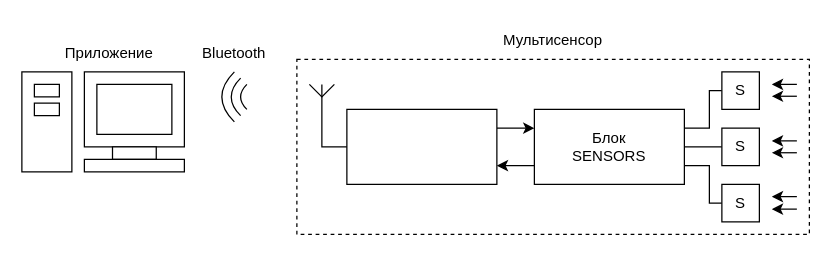
Some shapes in this 831 by 256 pixel diagram are drawn without their labels. The centre of each missing label's shape, as x and y in pixels:
PC: (x=134, y=108)
Блок MASTER: (x=421, y=146)
